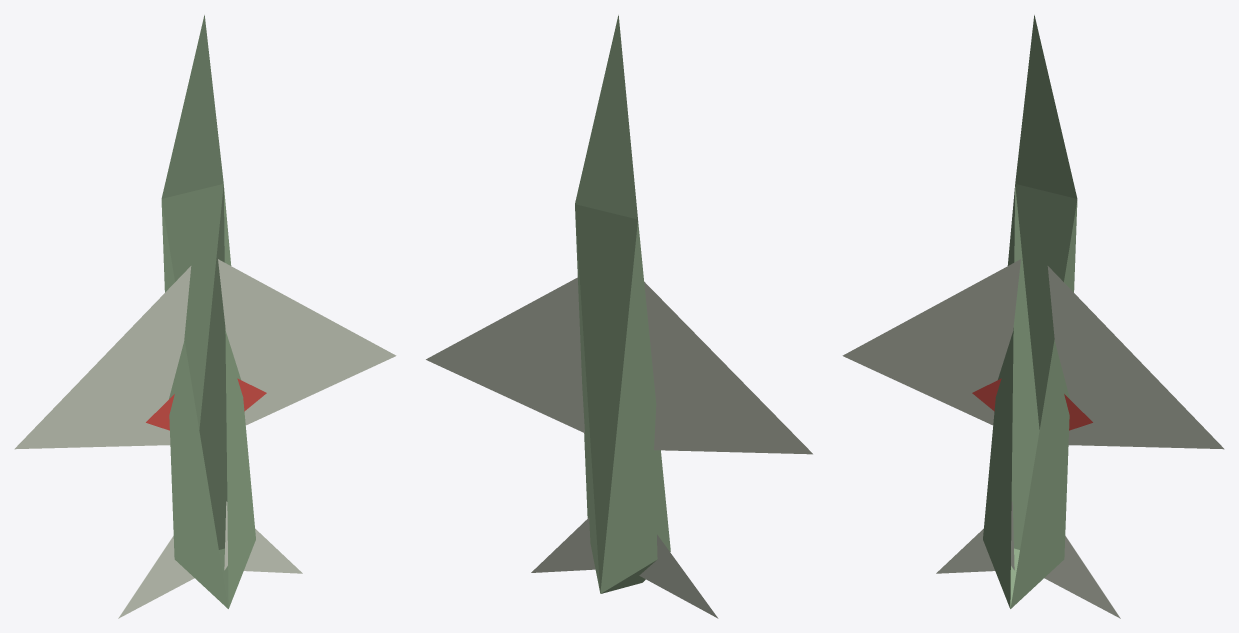
File: shape_012_SVN_Custom_Aircraft_012.glb
The picture shows the model from 3 angles, left to right: view 1: azimuth 30°, elevation 25°; view 2: azimuth 150°, elevation 25°; view 3: azimuth 330°, elevation 25°; orthographic projection.
Visible parts, largest first — view 1: shape_012_SVN_Custom_Aircraft_012; view 2: shape_012_SVN_Custom_Aircraft_012; view 3: shape_012_SVN_Custom_Aircraft_012.
Part boxes in pixels (<box>): shape_012_SVN_Custom_Aircraft_012: <box>14,15,396,618</box>; shape_012_SVN_Custom_Aircraft_012: <box>426,15,812,618</box>; shape_012_SVN_Custom_Aircraft_012: <box>842,15,1224,618</box>.
Size of the model in its own units: 79.58 by 115 by 15.11.
